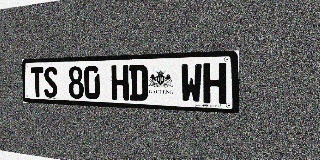0: (84, 66, 100, 99)
8: (68, 66, 84, 99)
D: (129, 65, 148, 101)
H: (203, 63, 226, 104), (111, 65, 129, 100)
S: (44, 67, 58, 98)
T: (30, 67, 44, 97)
W: (181, 63, 202, 103)
